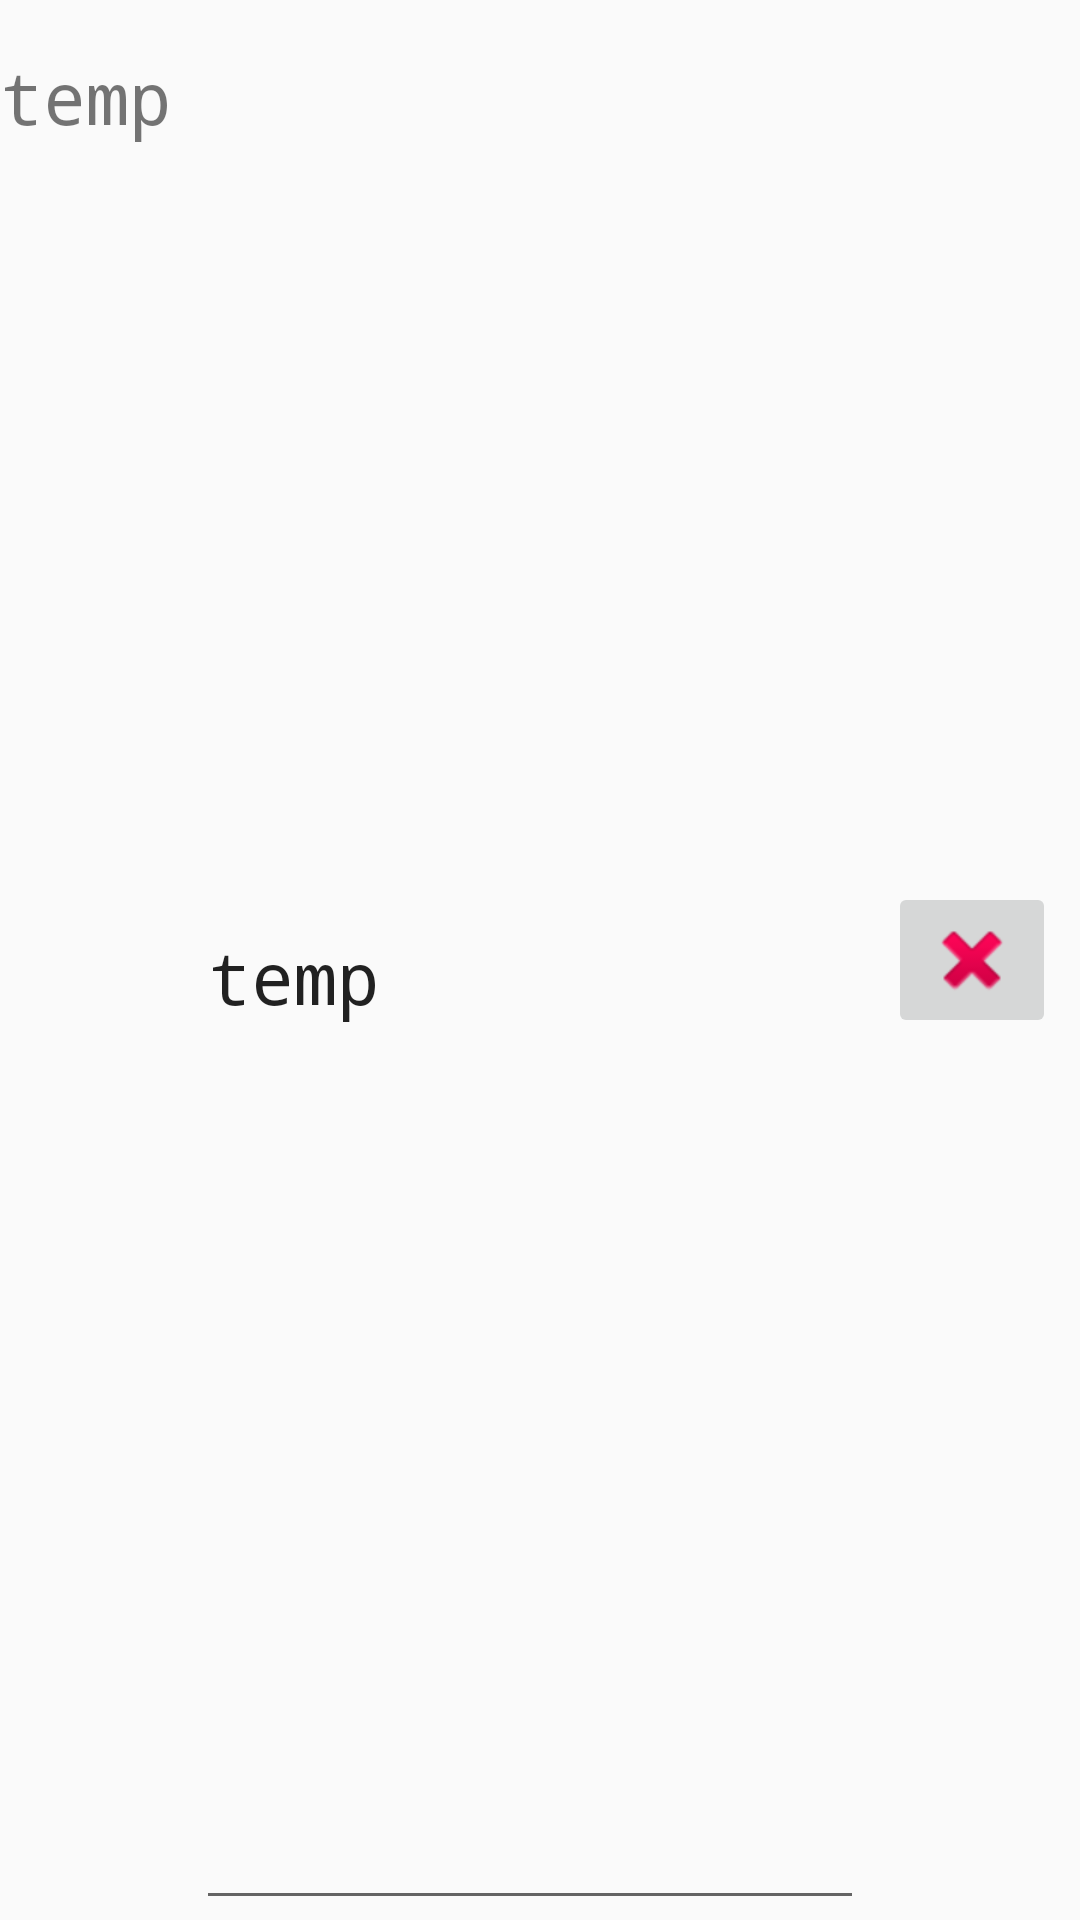

Screen size 1080 x 1920. Icon name, then its center in pixels as (x=x, y=y):
delete: (x=972, y=960)
